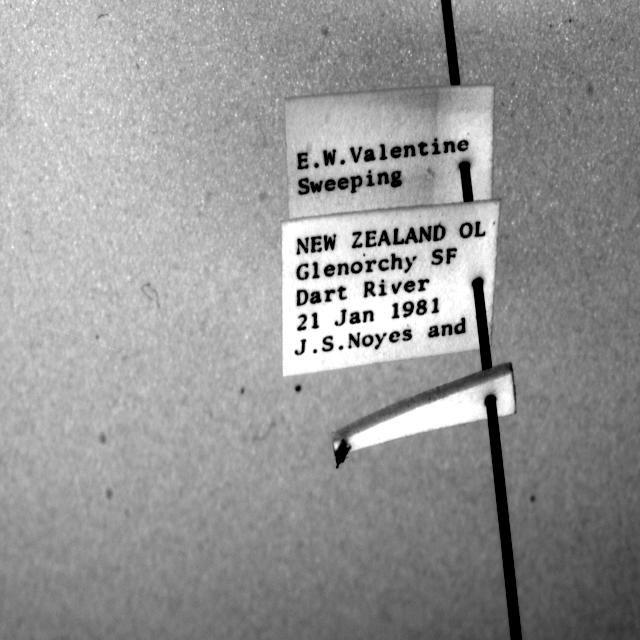typed_label: (281, 201, 500, 377), (285, 86, 494, 219)
